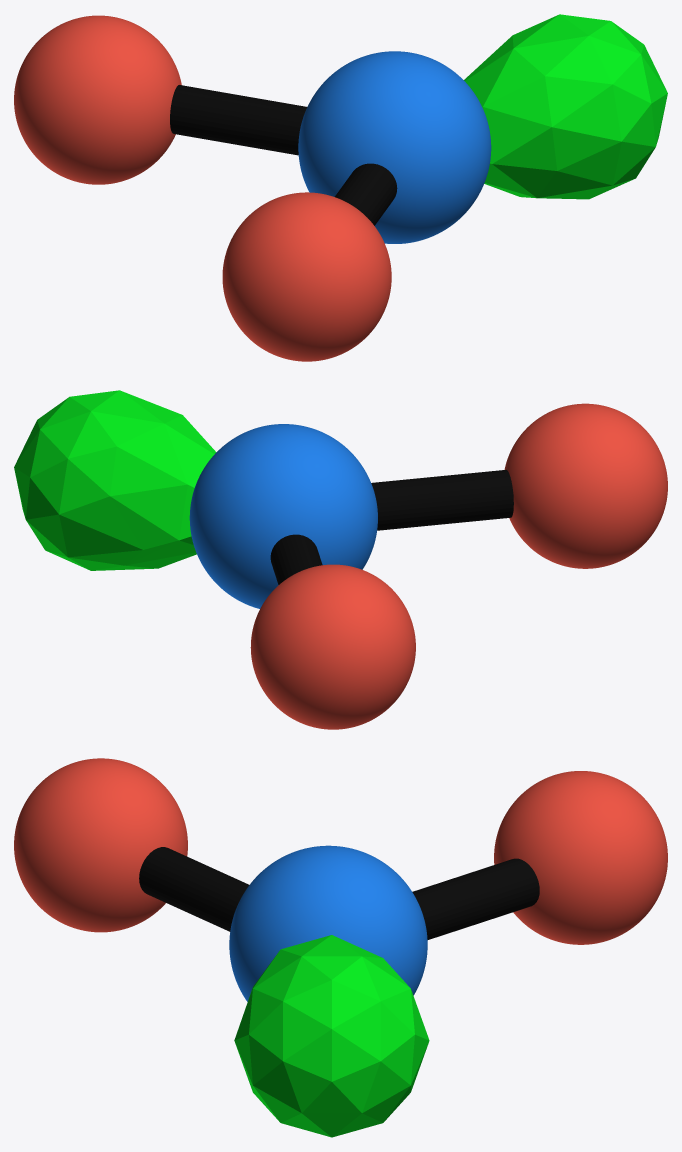
The model's file is trigonal_planar_bent_1lp.glb.
3 renders of one model, top to bottom at view 1: azimuth 30°, elevation 25°; view 2: azimuth 150°, elevation 25°; view 3: azimuth 270°, elevation 25°, orthographic. The views are drawn at different scales.
Visible parts, largest first — view 1: Icosphere, Sphere, Sphere.001, Sphere.003, Cylinder.001, Cylinder; view 2: Icosphere, Sphere, Sphere.003, Sphere.001, Cylinder, Cylinder.001; view 3: Icosphere, Sphere.003, Sphere.001, Sphere, Cylinder.001, Cylinder.
Boxes of the visible parts, left/top/right/bottom form: Icosphere: left=464, top=14, right=667, bottom=199; Sphere: left=298, top=51, right=491, bottom=243; Sphere.001: left=222, top=192, right=391, bottom=361; Sphere.003: left=14, top=15, right=181, bottom=184; Cylinder.001: left=170, top=85, right=307, bottom=155; Cylinder: left=335, top=163, right=397, bottom=225; Icosphere: left=14, top=390, right=216, bottom=570; Sphere: left=189, top=424, right=377, bottom=608; Sphere.003: left=250, top=564, right=415, bottom=729; Sphere.001: left=504, top=403, right=667, bottom=568; Cylinder: left=371, top=469, right=513, bottom=530; Cylinder.001: left=270, top=534, right=322, bottom=584; Icosphere: left=234, top=935, right=429, bottom=1137; Sphere.003: left=494, top=771, right=667, bottom=944; Sphere.001: left=14, top=758, right=187, bottom=932; Sphere: left=229, top=845, right=427, bottom=1001; Cylinder.001: left=412, top=858, right=539, bottom=939; Cylinder: left=139, top=847, right=249, bottom=931.
Size of the model in its own units: 2.99 by 0.9333 by 3.08.
